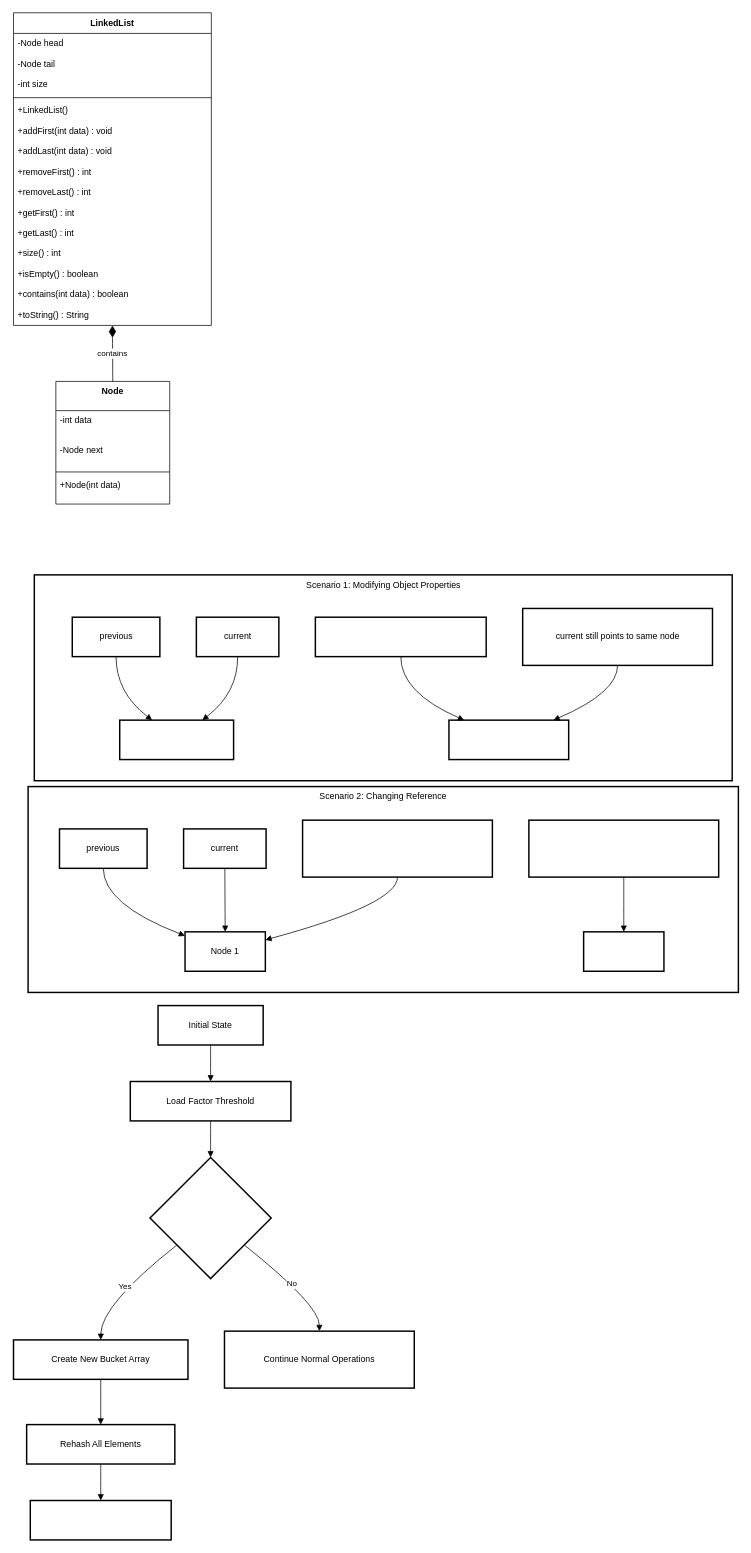
Some shapes in this 751 by 1553 pixel diagram are drawn without their labels. Here are the shapes that lost their labels. From the top down, the centre of each, then its label:
At point (400, 636): "After previous.data = 10".
At point (176, 739): "Node: data=5".
At point (508, 739): "Node: data=10".
At point (397, 848): "current still points to Node 1".
At point (623, 848): "After previous = previous.next".
At point (623, 951): "Node 2".
At point (210, 1217): "Need to Resize?".
At point (100, 1519): "Update Hash Table".
